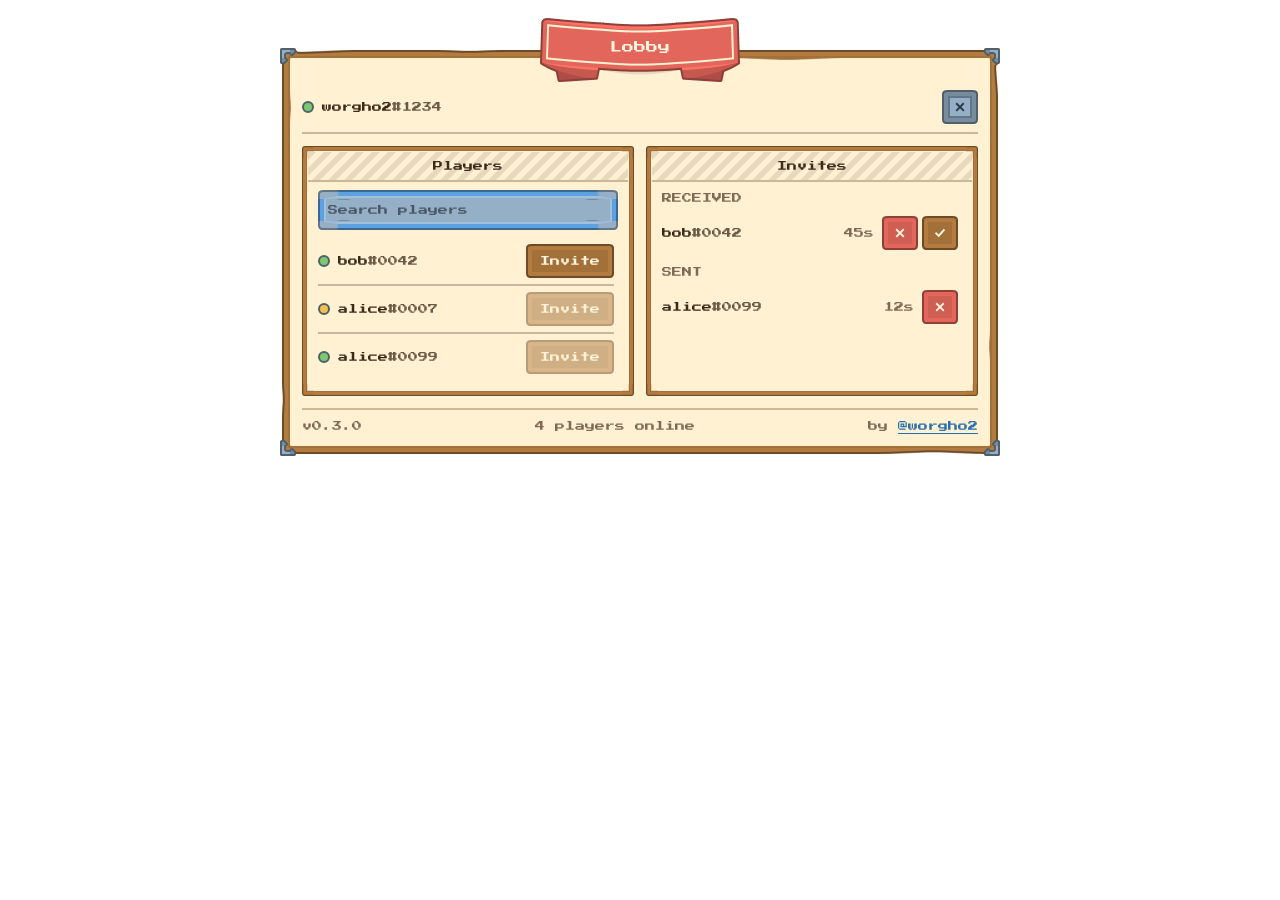
LobbyScreen › cancelling the confirmation invites nobody
This screenshot has width=1280, height=900.
Click the 1st button "Invite ". click: point(570, 261)
box: [526,244,614,278]
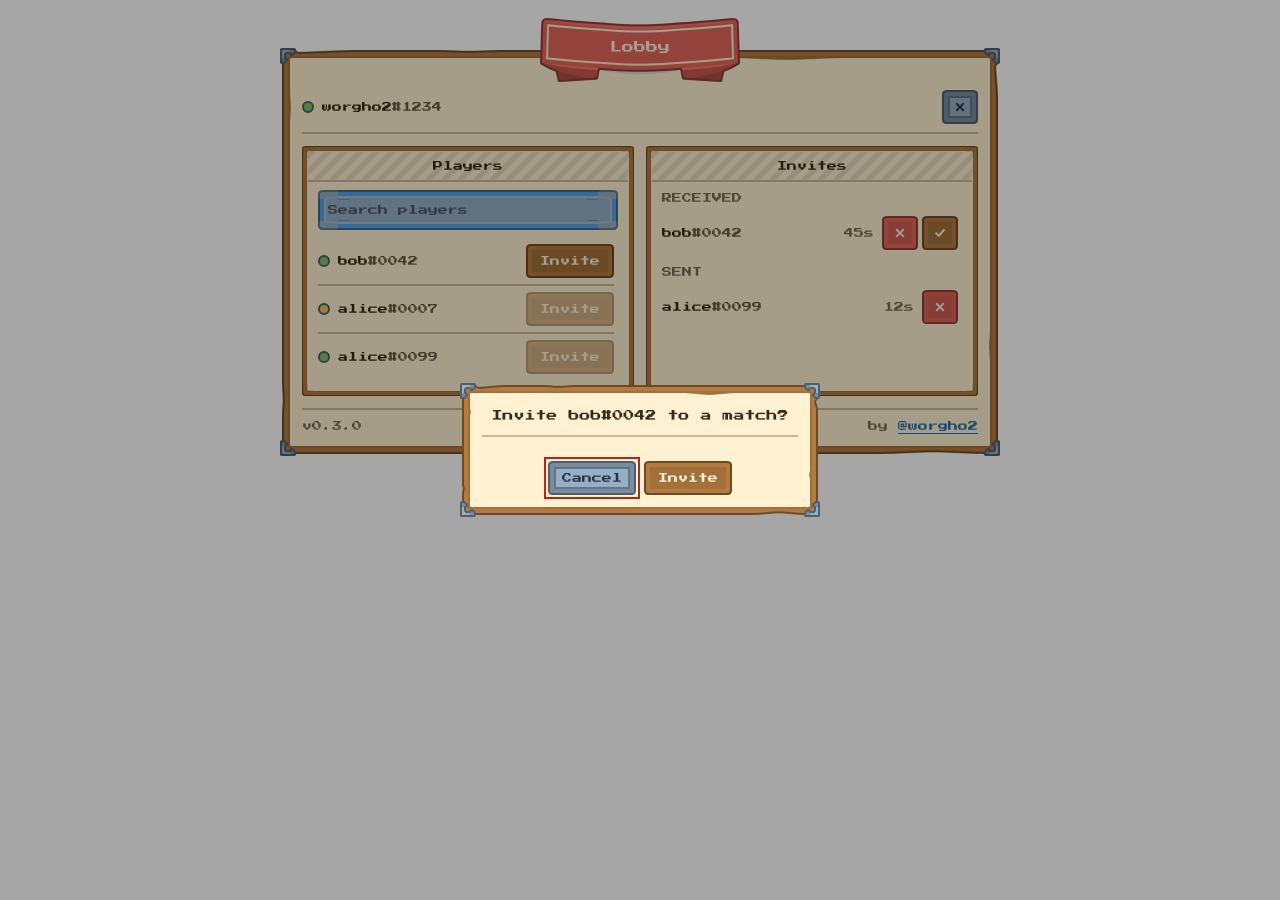
Click the button "Cancel". click: point(592, 478)
box: [548,461,636,495]
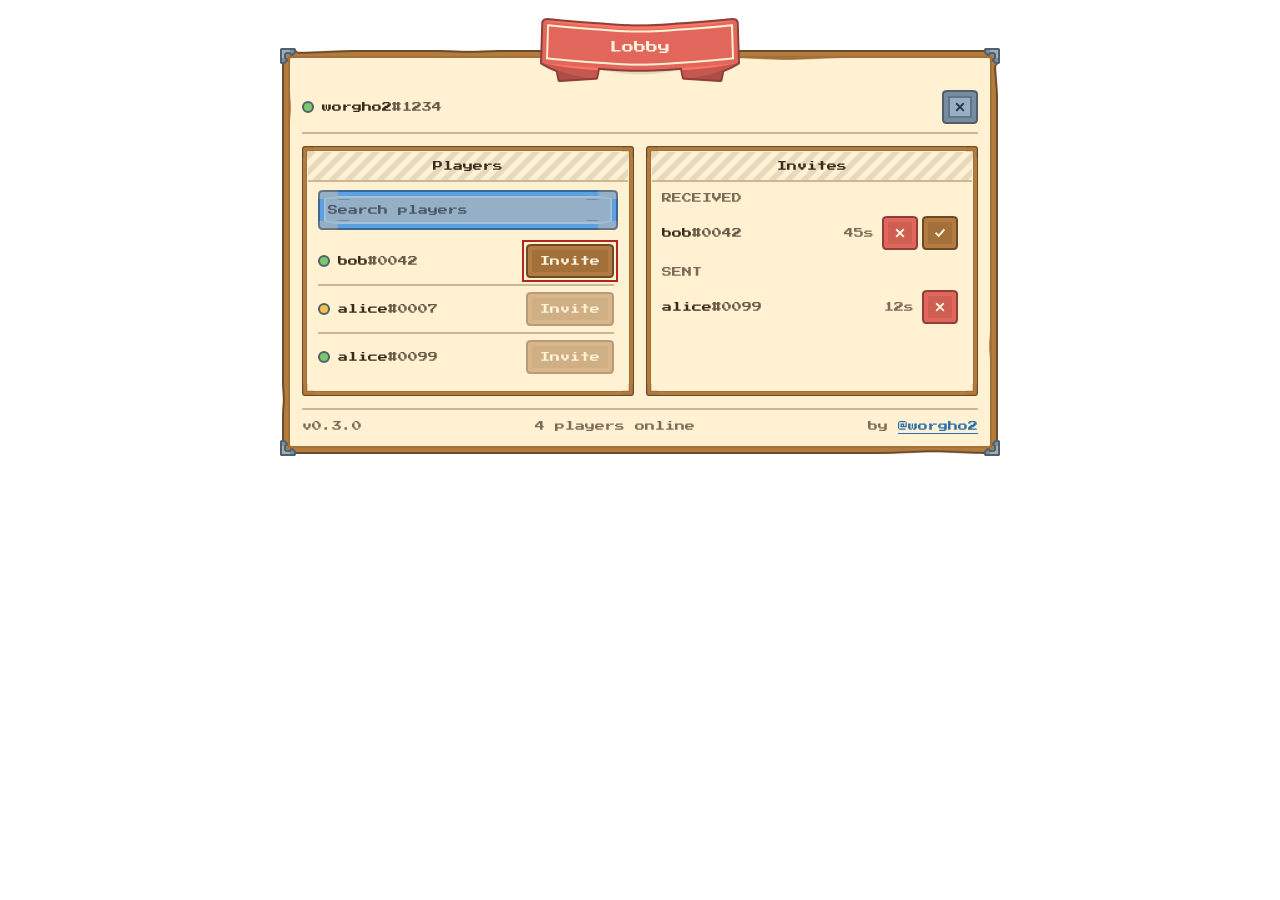
Now the dialog is gone
